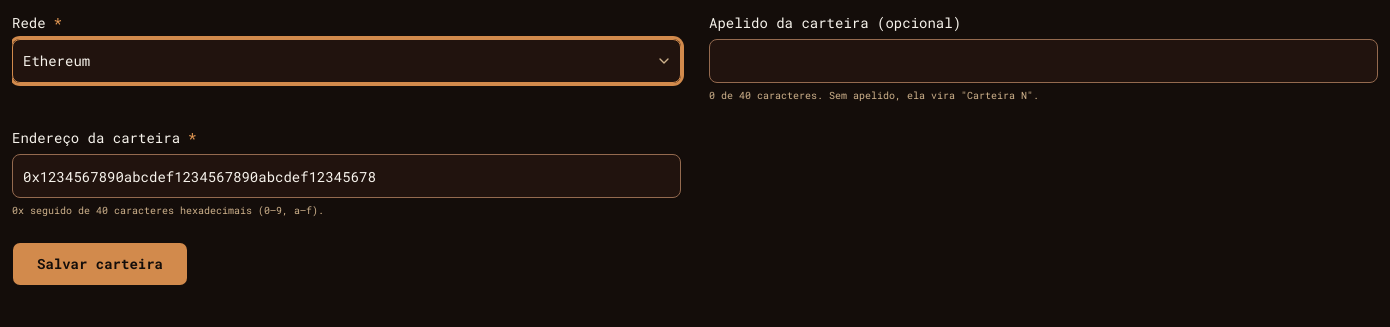
Scenario: WalletForm › 409 cai no endereço; 422 nos campos
Earlier steps of the test are not shown.
Click the button "Salvar carteira". click: [100, 264]
box: x1=12 y1=242 x2=188 y2=286
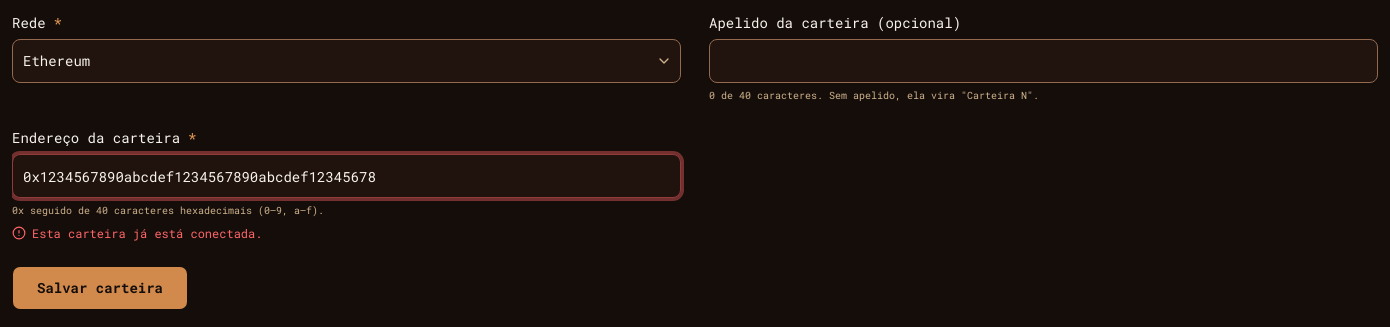
Expected: the text "Esta carteira já está conectada." is shown, x1=12 y1=225 x2=262 y2=241
Click the button "Salvar carteira". click: [100, 288]
box: x1=12 y1=266 x2=188 y2=310
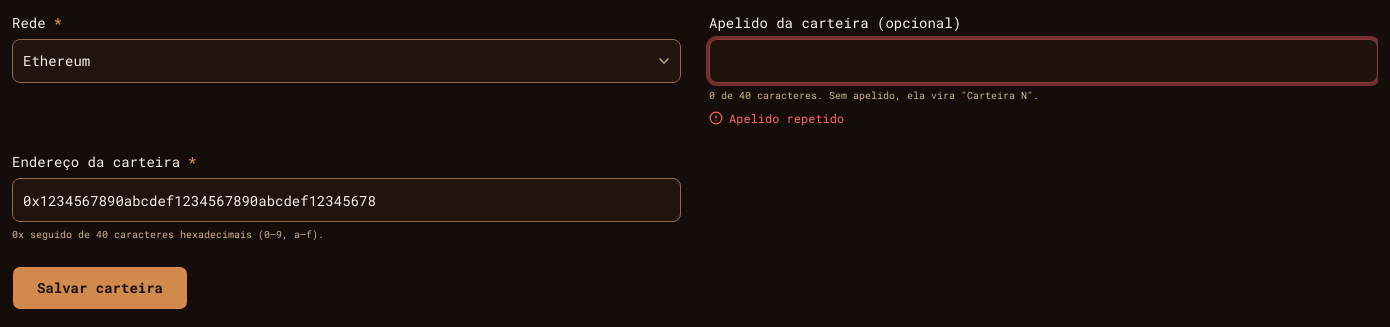
Expected: the text "Apelido repetido" is shown, x1=709 y1=110 x2=844 y2=126
